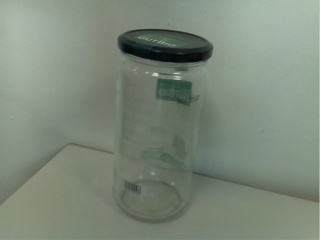pote cristal: (111, 27, 216, 224)
